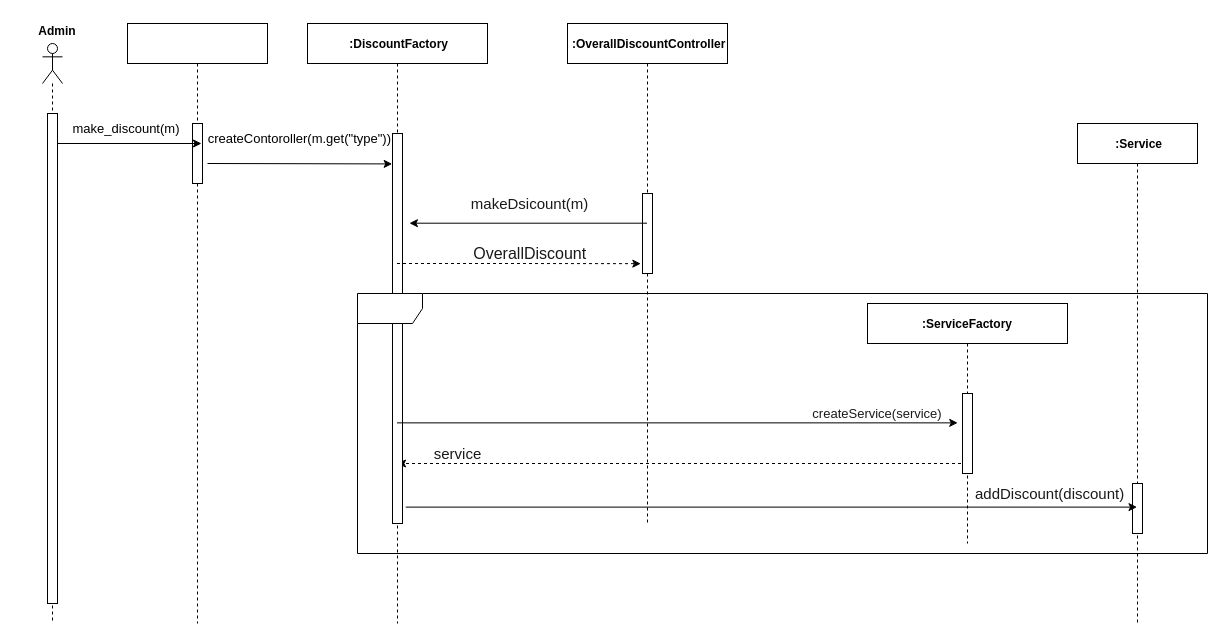
The diagram is 1225 pixels wide and 641 high, and some of its shapes have lost their labels. The shapes that lost their labels are listed below. From the top down, each one's box as (x1, y1, x2, y2) in pixels, then its label:
(126, 22, 268, 624): DiscountForm
(356, 292, 1208, 554): loop Services
